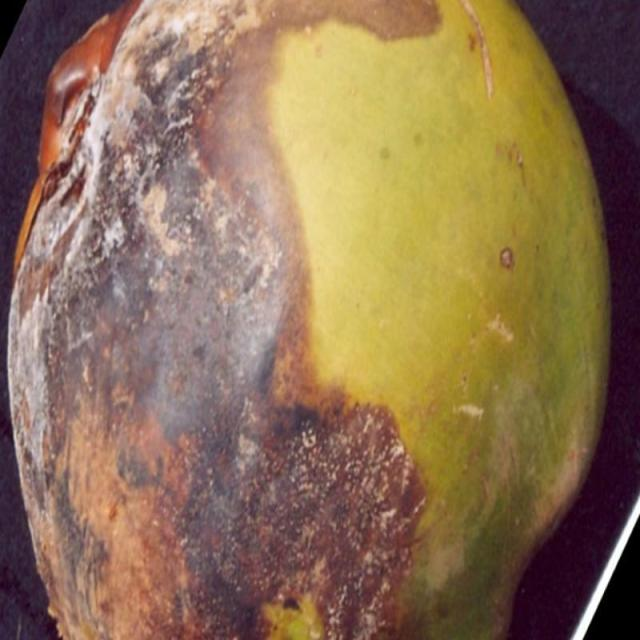damaged: (10, 0, 607, 639)
